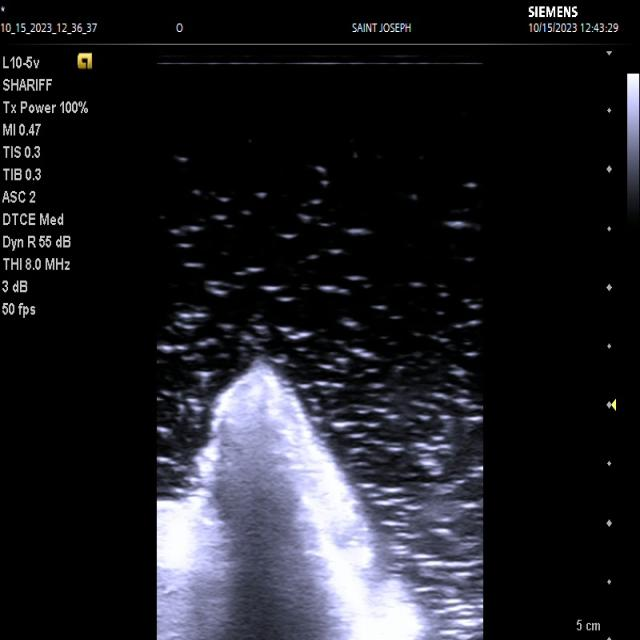tissue: (157, 359, 421, 640)
